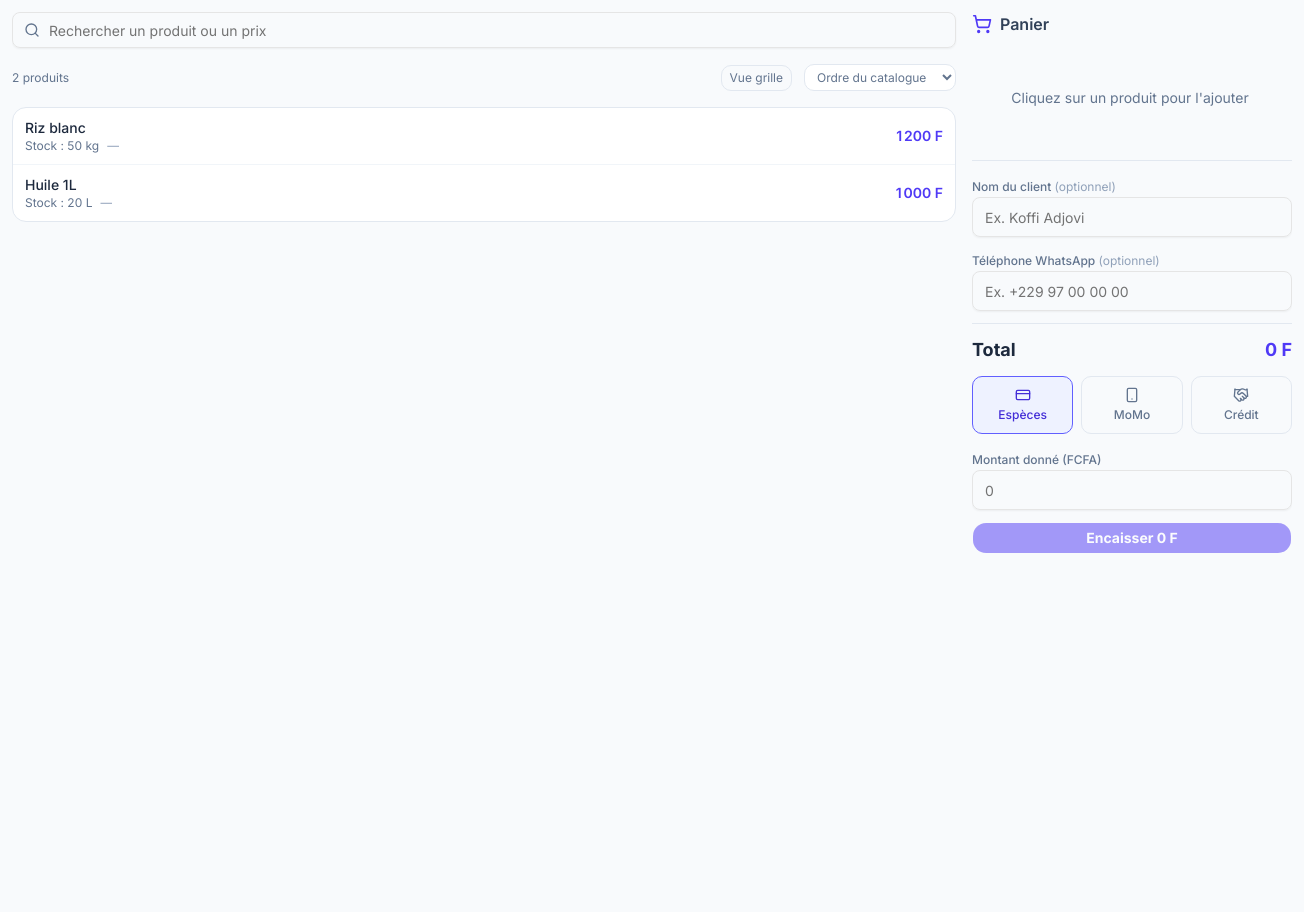
it: POS — le refus d'encaissement ne survit pas à la correction › l'erreur de stock disparaît dès que la quantité redevient faisable
This screenshot has width=1304, height=912.
Click the text "Riz blanc" at {"x": 55, "y": 128}, box [25,119,86,136]
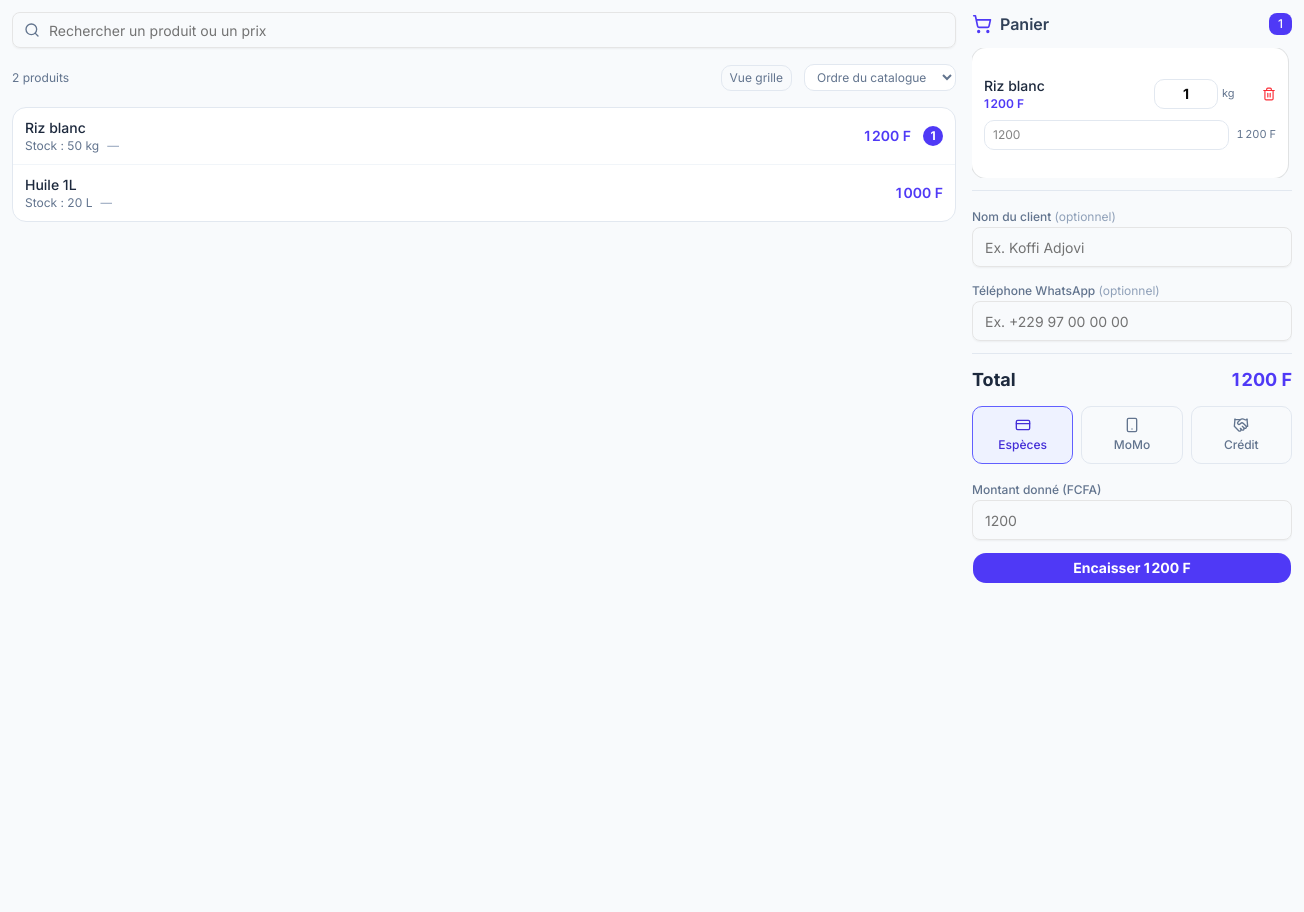
Replace the text in the field named "Quantité pour Riz blanc" with "900" at {"x": 1186, "y": 94}, box [1154,79,1218,109]
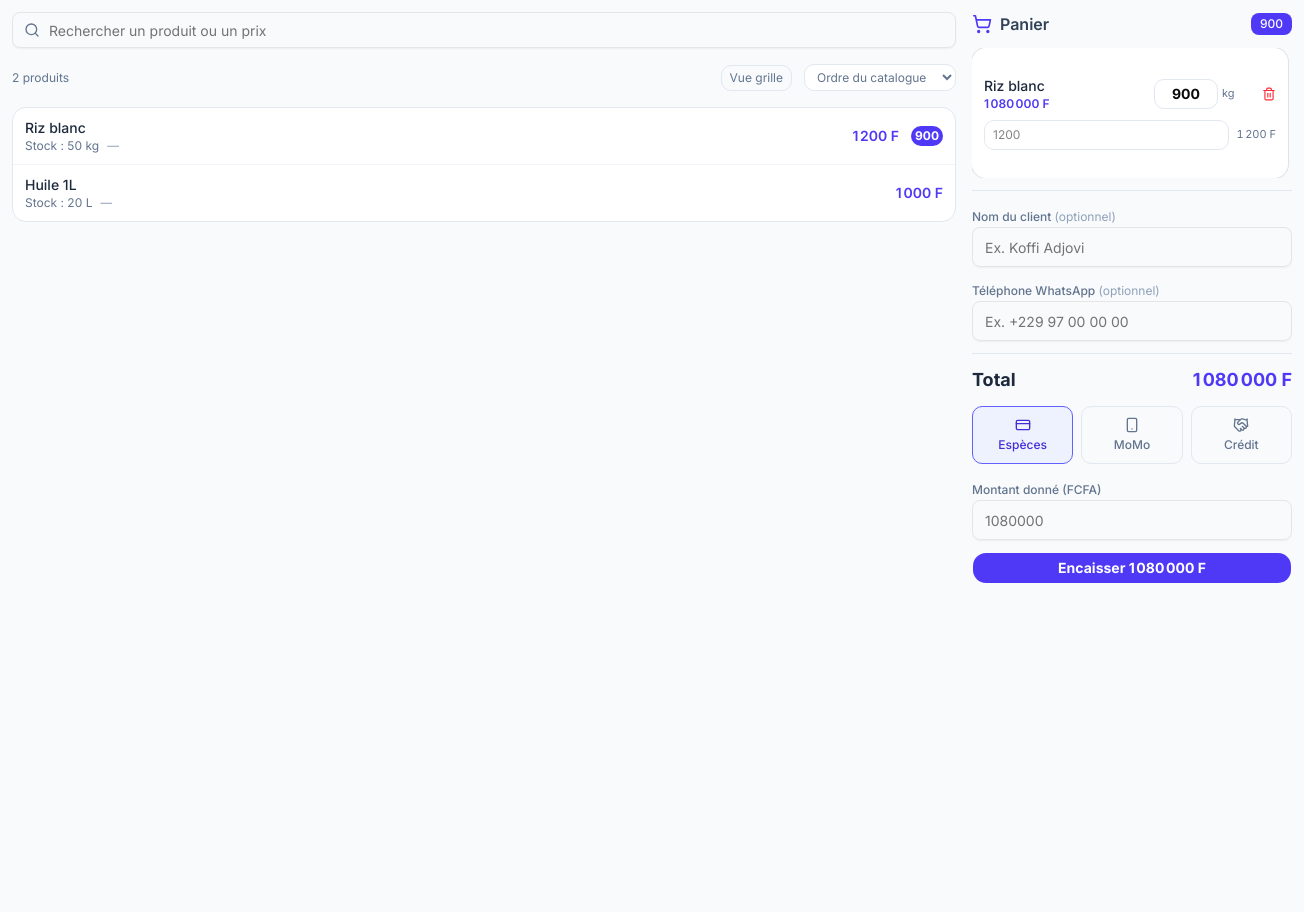
Click the button "Encaisser 1 080 000 F" at {"x": 1132, "y": 568}, box [972,552,1292,584]
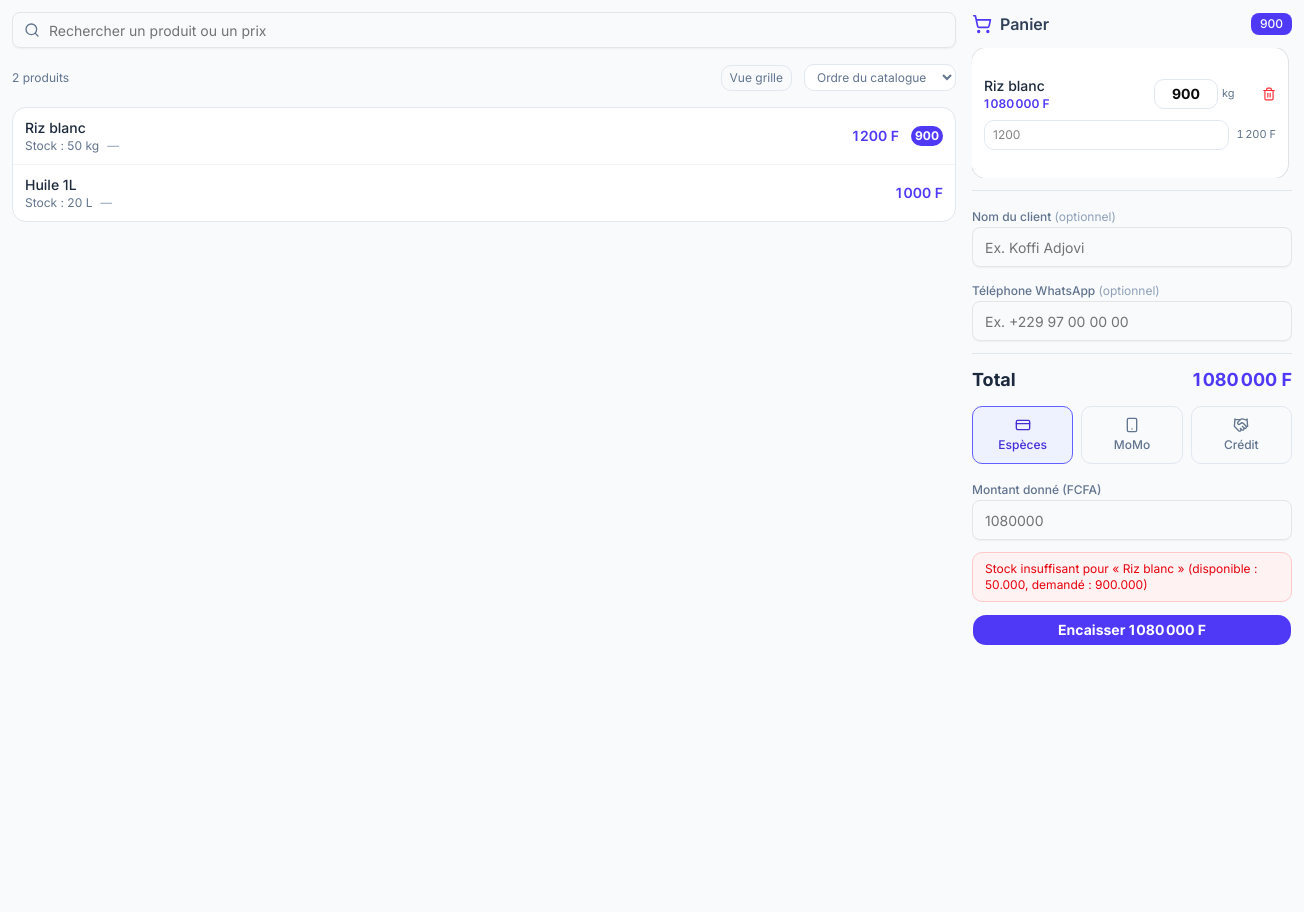
Expected: the text "Stock insuffisant" is shown, [985,561,1257,592]
Replace the text in the field named "Quantité pour Riz blanc" with "2" at {"x": 1186, "y": 94}, box [1154,79,1218,109]
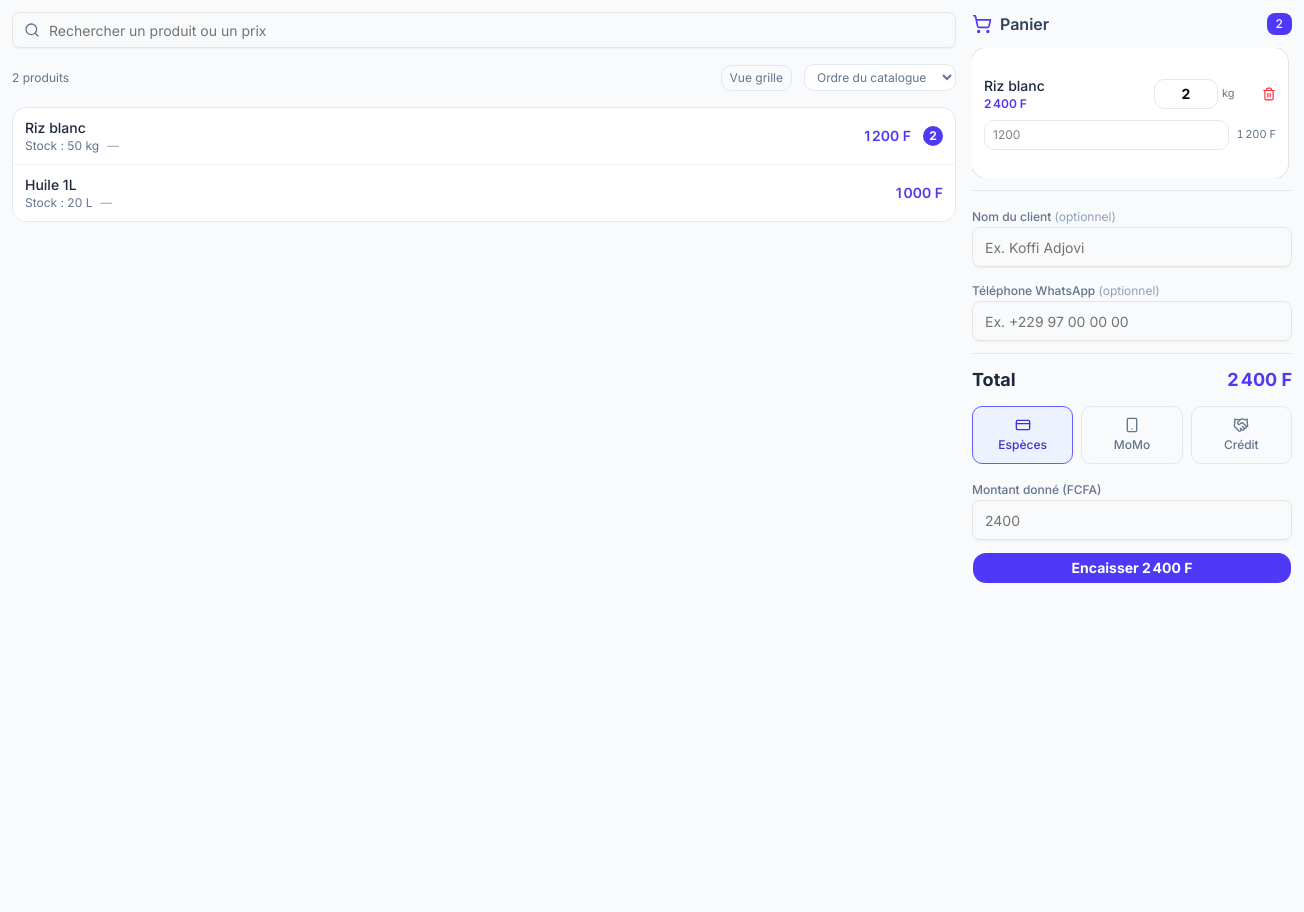
Expected: the text "Stock insuffisant" is gone
